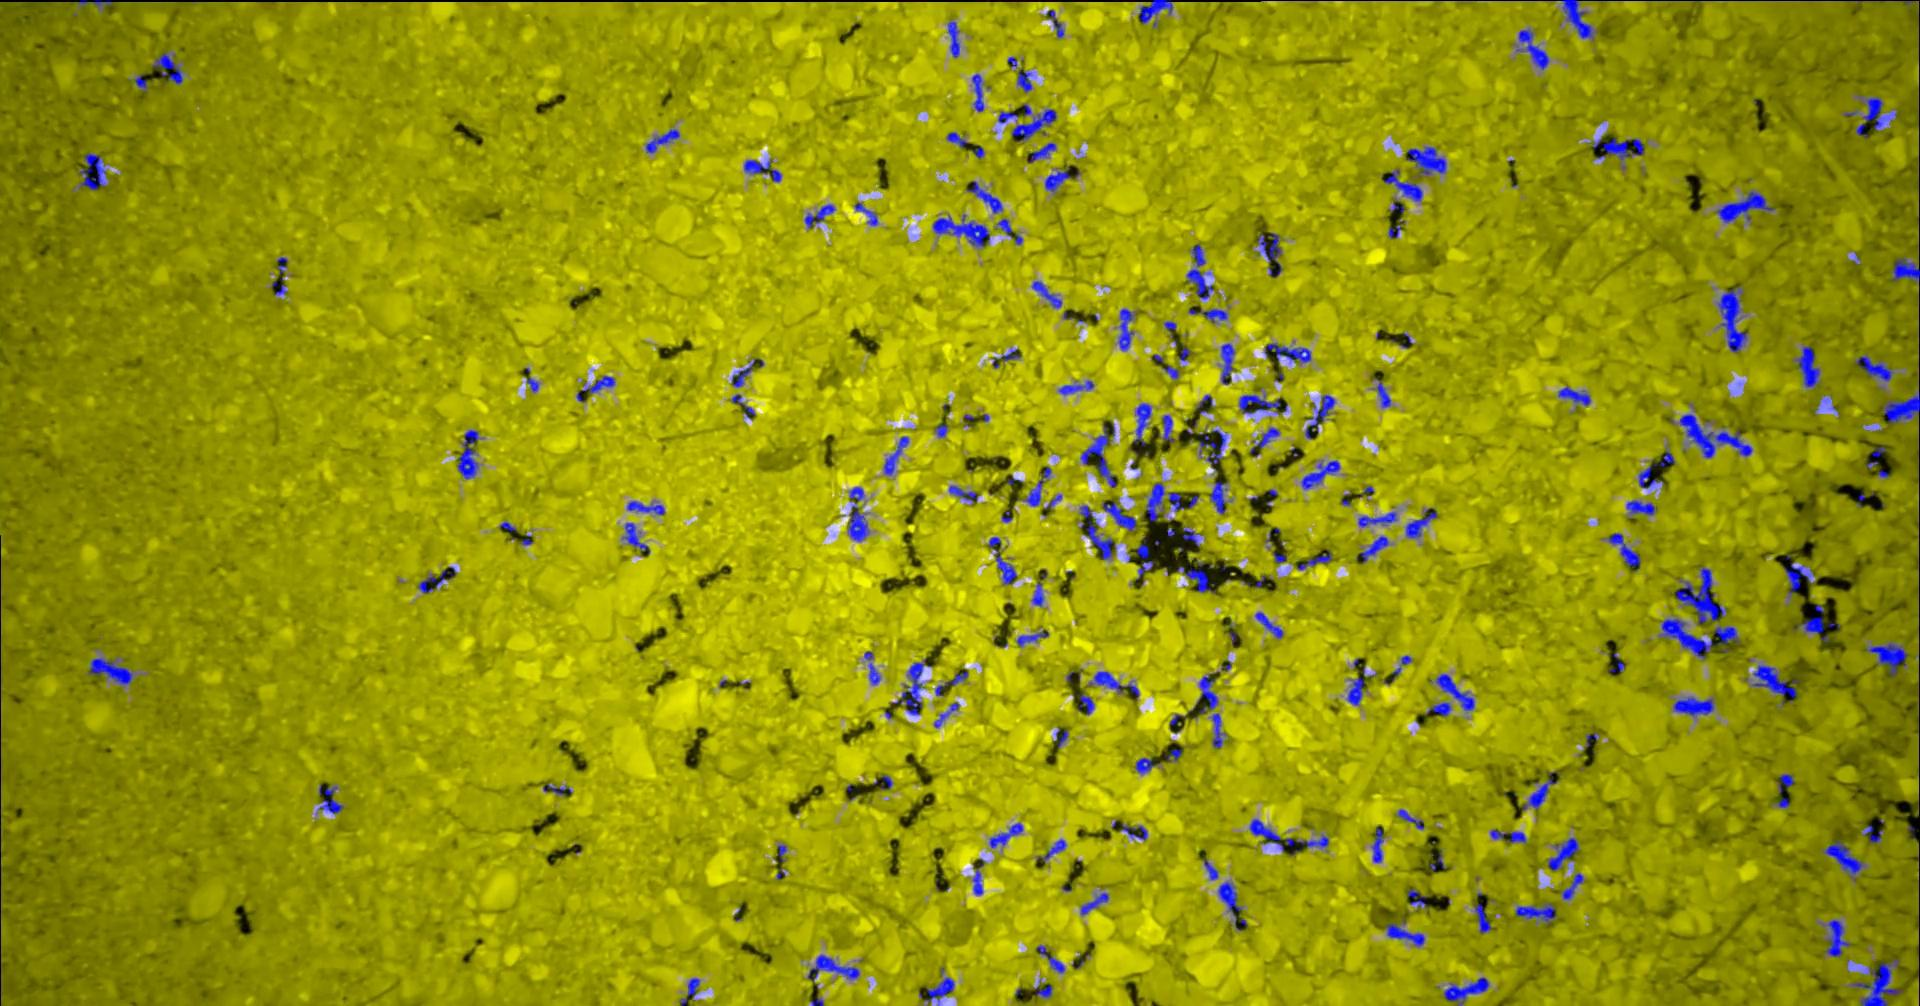ant: (1681, 413, 1752, 457), (1663, 619, 1741, 659), (1251, 819, 1330, 851), (891, 658, 933, 714), (1854, 958, 1903, 1005), (1082, 423, 1117, 486), (1147, 481, 1200, 521), (1081, 506, 1117, 559), (1719, 286, 1749, 352), (1718, 191, 1777, 222), (935, 213, 990, 246), (1754, 664, 1798, 701), (1801, 605, 1841, 641), (1523, 770, 1559, 809), (1867, 641, 1909, 676), (1219, 882, 1248, 930), (1437, 673, 1476, 710), (1189, 244, 1214, 298), (1013, 109, 1058, 140), (1305, 394, 1336, 438), (1641, 448, 1676, 486), (809, 954, 861, 979), (1091, 671, 1140, 697), (990, 536, 1018, 583), (1826, 840, 1864, 873), (1562, 0, 1594, 39), (1445, 977, 1490, 1005), (1520, 28, 1550, 69), (968, 180, 1004, 213), (1385, 169, 1423, 201), (1610, 532, 1642, 570), (1178, 561, 1217, 593), (1857, 97, 1887, 136), (90, 657, 135, 683), (1407, 146, 1448, 174), (1884, 391, 1920, 423), (1592, 137, 1644, 159), (1303, 460, 1341, 489), (850, 486, 870, 541), (1200, 429, 1228, 467), (1026, 466, 1053, 506), (419, 567, 458, 593), (458, 429, 480, 478), (80, 152, 107, 191), (1349, 667, 1375, 705), (1797, 345, 1821, 387), (1549, 837, 1580, 870), (1103, 500, 1138, 530), (885, 436, 910, 475), (1857, 354, 1895, 380), (1195, 673, 1219, 713), (1387, 922, 1426, 946), (1239, 394, 1289, 413), (154, 52, 184, 83), (1407, 508, 1439, 537), (1785, 561, 1815, 593), (1827, 920, 1851, 956), (1266, 343, 1312, 362), (1032, 279, 1063, 307), (926, 977, 956, 1005), (625, 522, 651, 554), (990, 822, 1023, 847), (1675, 696, 1716, 716), (1517, 903, 1558, 923), (745, 159, 783, 180), (1137, 536, 1156, 579), (937, 669, 969, 695), (648, 128, 681, 152), (1140, 0, 1175, 23), (319, 784, 345, 813), (1134, 403, 1152, 446), (1363, 535, 1390, 561), (1037, 945, 1065, 972), (806, 205, 837, 227), (1257, 612, 1284, 638), (1258, 232, 1283, 260), (733, 358, 757, 386), (1037, 840, 1067, 862), (1120, 307, 1135, 351), (272, 257, 290, 293), (998, 218, 1023, 244), (1082, 892, 1110, 915), (1298, 551, 1333, 569), (1559, 386, 1592, 405), (1046, 166, 1072, 191), (935, 702, 960, 727), (1893, 257, 1920, 279), (1359, 511, 1398, 526), (583, 375, 616, 392), (1190, 307, 1228, 323), (733, 394, 756, 419), (1563, 873, 1585, 899), (1222, 343, 1236, 384), (1018, 629, 1050, 647), (865, 652, 883, 683), (1030, 142, 1057, 163), (1211, 481, 1228, 513), (856, 202, 879, 225), (1257, 427, 1281, 448), (1399, 809, 1425, 829), (629, 500, 665, 514), (1048, 9, 1065, 37), (973, 72, 985, 111), (1375, 377, 1392, 406), (1476, 903, 1492, 932), (1060, 380, 1095, 394), (1123, 822, 1149, 840), (1373, 826, 1385, 862), (1491, 829, 1528, 842), (949, 22, 961, 57), (950, 485, 979, 500), (1868, 445, 1887, 467), (1628, 500, 1658, 514), (1159, 415, 1176, 441), (1213, 713, 1224, 747), (543, 782, 573, 795), (1137, 757, 1159, 772), (1183, 526, 1200, 546), (949, 132, 970, 147), (1079, 692, 1095, 714), (1018, 69, 1032, 91), (1429, 702, 1451, 716), (1865, 826, 1883, 843), (1197, 394, 1214, 413), (1779, 774, 1796, 793), (1410, 889, 1429, 906), (1610, 652, 1625, 672), (1032, 582, 1045, 606), (1205, 859, 1219, 879), (1390, 220, 1406, 238), (876, 774, 894, 789), (974, 868, 984, 894), (135, 72, 149, 91), (1055, 728, 1069, 747), (690, 977, 701, 1000), (999, 111, 1020, 123), (77, 0, 116, 6), (1002, 348, 1022, 359), (1163, 365, 1180, 379), (1037, 984, 1054, 997), (1168, 748, 1183, 761), (936, 423, 949, 437), (528, 377, 540, 391)
